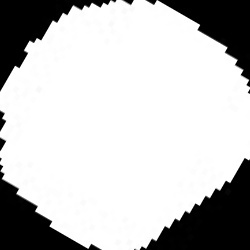spot: (0, 2, 248, 249)
